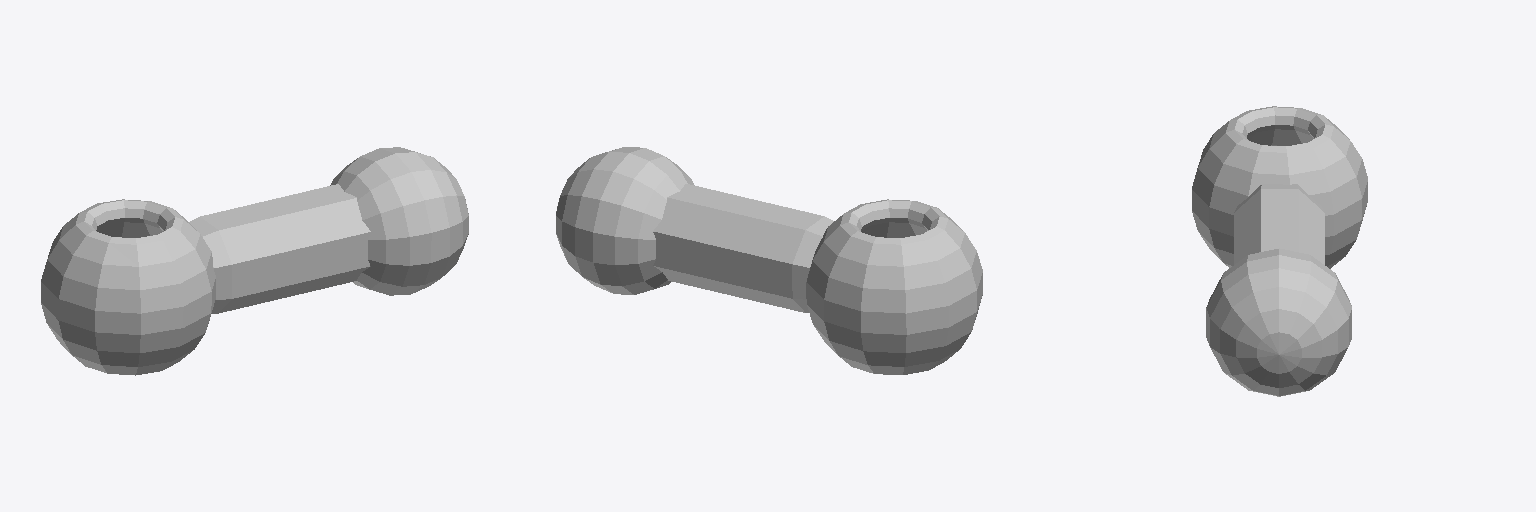
The model's file is brazoIzq.obj.
3 views of the same model, side by side, from view 1: azimuth 30°, elevation 25°; view 2: azimuth 150°, elevation 25°; view 3: azimuth 270°, elevation 25° (orthographic).
Visible parts, largest first — view 1: BalloonBoy.004; view 2: BalloonBoy.004; view 3: BalloonBoy.004.
Part boxes in pixels (x1,y1,x2,y2): BalloonBoy.004: (41, 147, 468, 375); BalloonBoy.004: (556, 147, 982, 374); BalloonBoy.004: (1192, 106, 1367, 396).
Size of the model in its own units: 13 by 4.2 by 4.89.